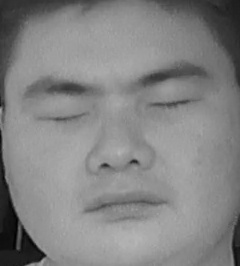blink: (145, 87, 203, 121), (33, 100, 88, 135)
mouth: (82, 181, 170, 227)
